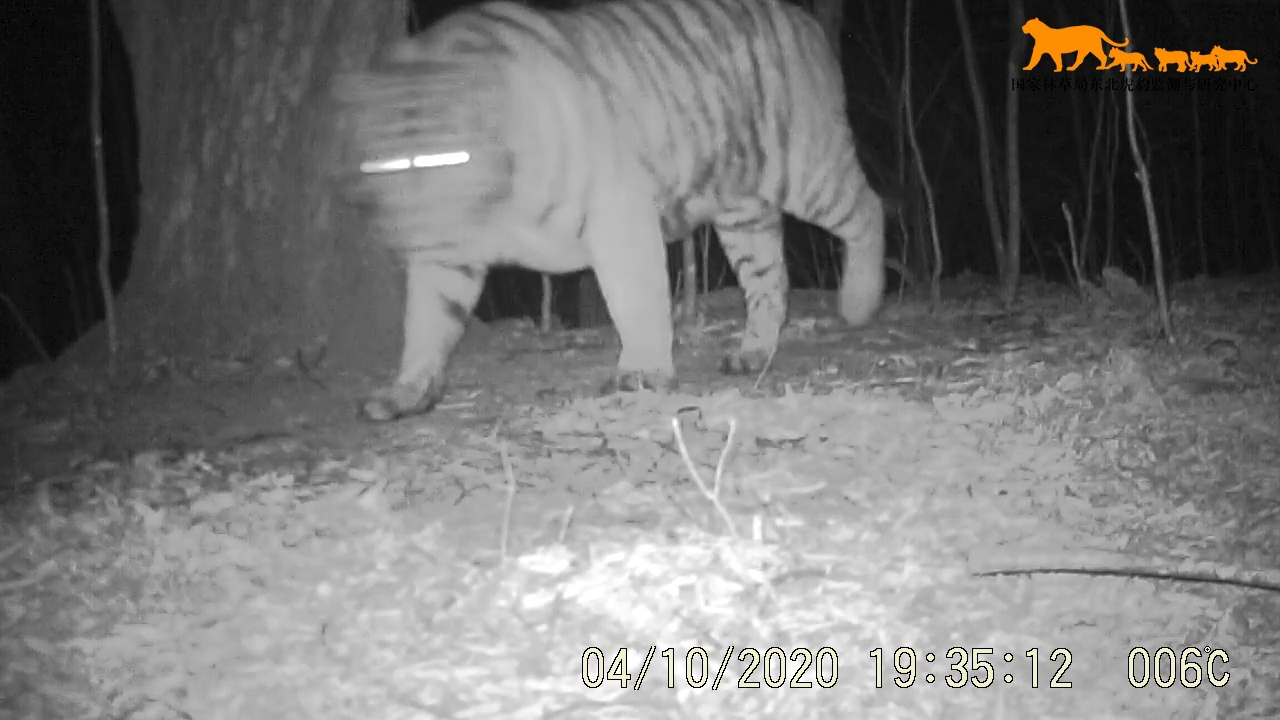Tiger: (291, 1, 990, 470)
